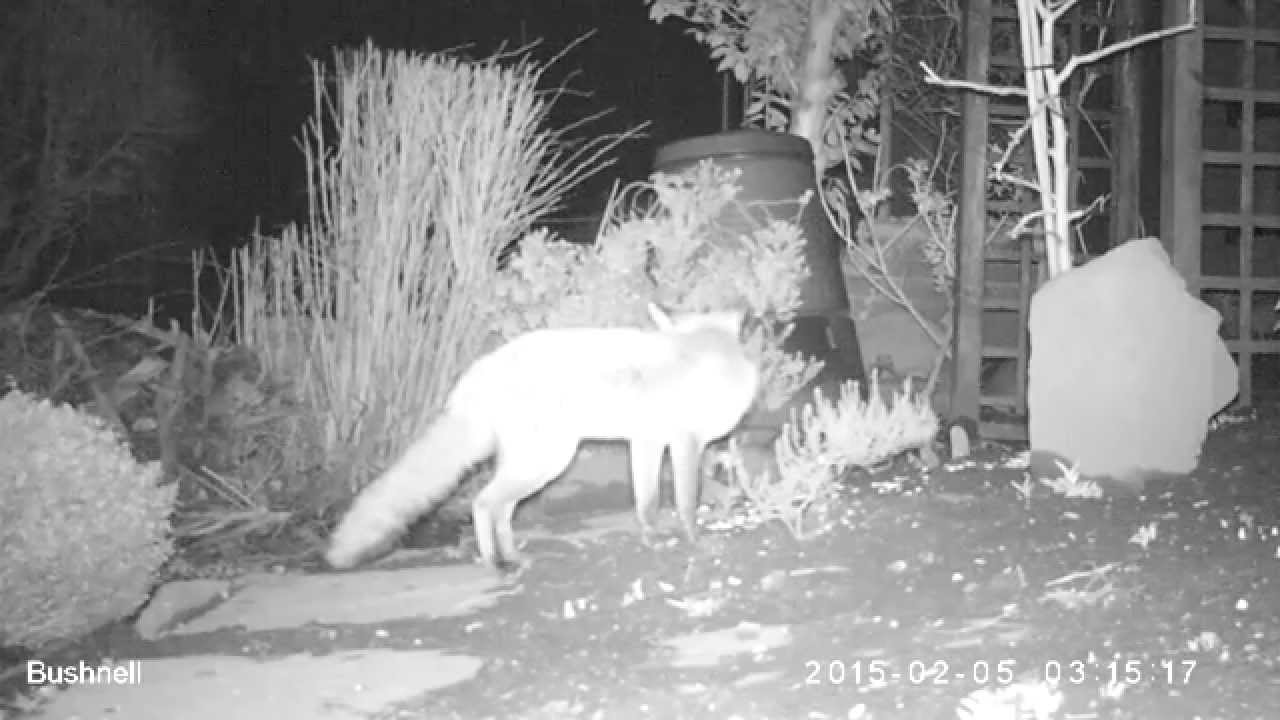fox: (290, 287, 784, 601)
